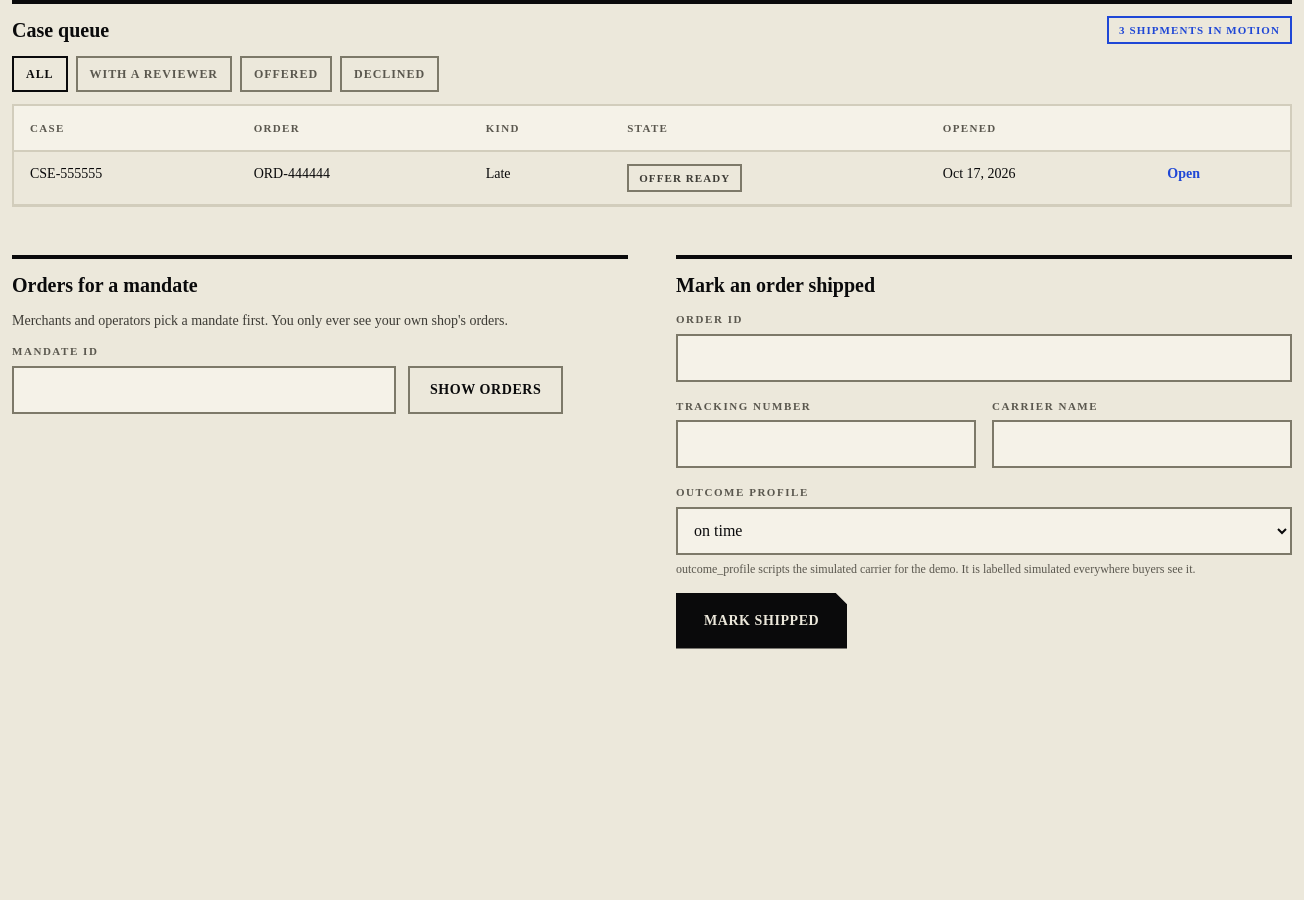
Test case: MerchantDesk › marks an order shipped and labels the carrier simulated
Type "44444444-4444-4444-8444-444444444444" into the field labelled "Order id" at (984, 358), box x1=676 y1=334 x2=1292 y2=382
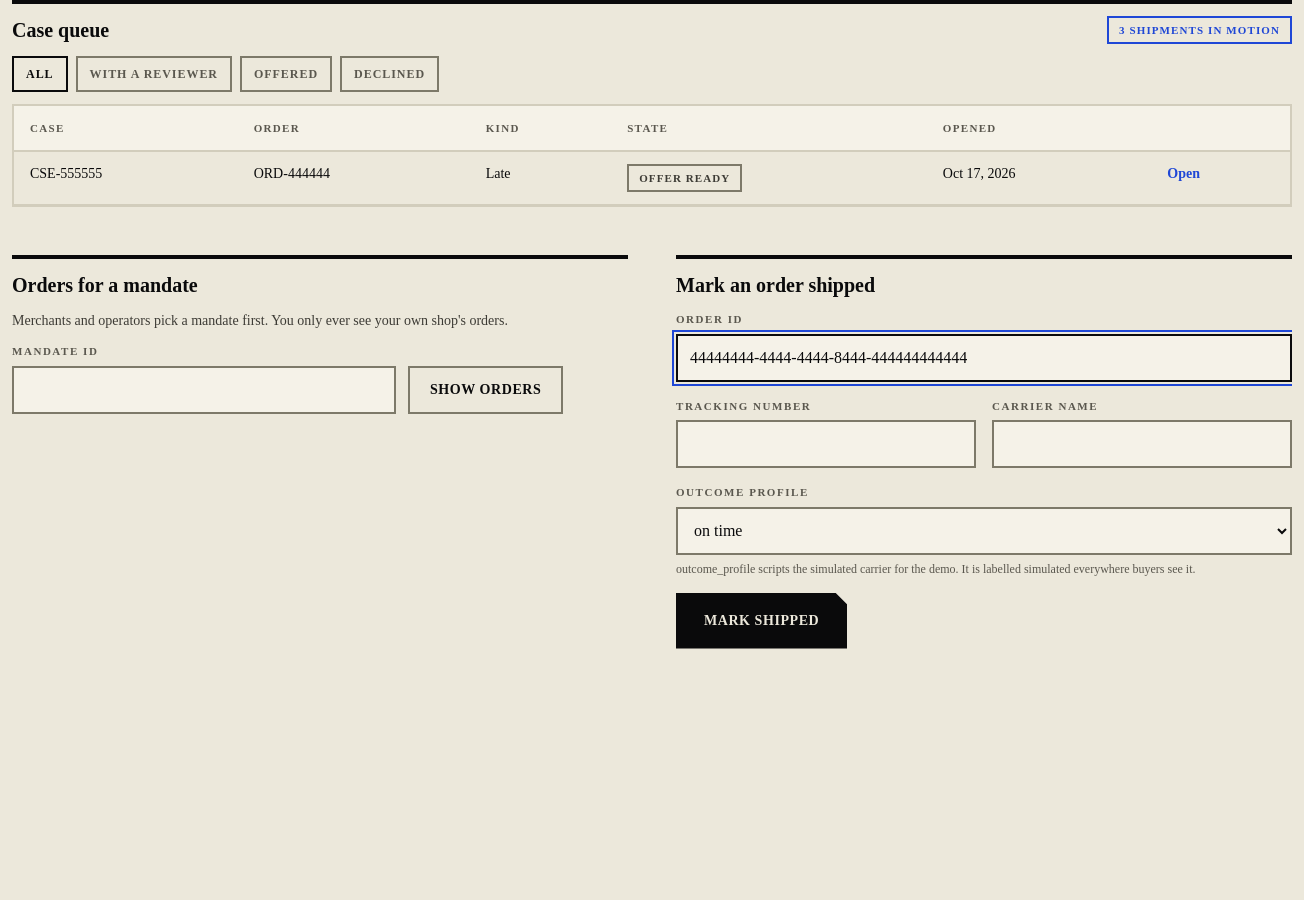
Type "TRK-9" into the field labelled "Tracking number" at (826, 444), box x1=676 y1=420 x2=976 y2=468
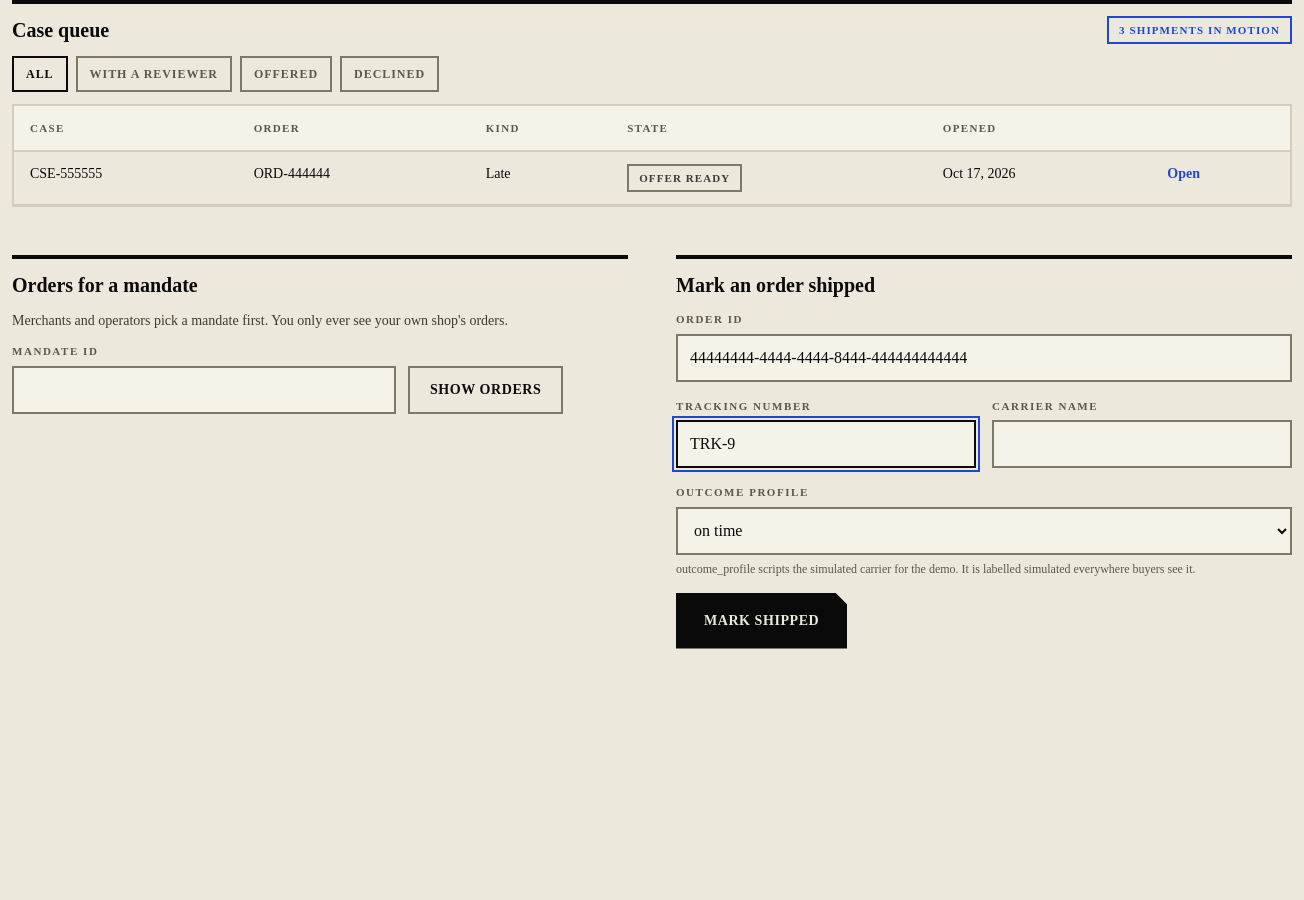
Type "SimPost" into the field labelled "Carrier name" at (1142, 444), box x1=992 y1=420 x2=1292 y2=468
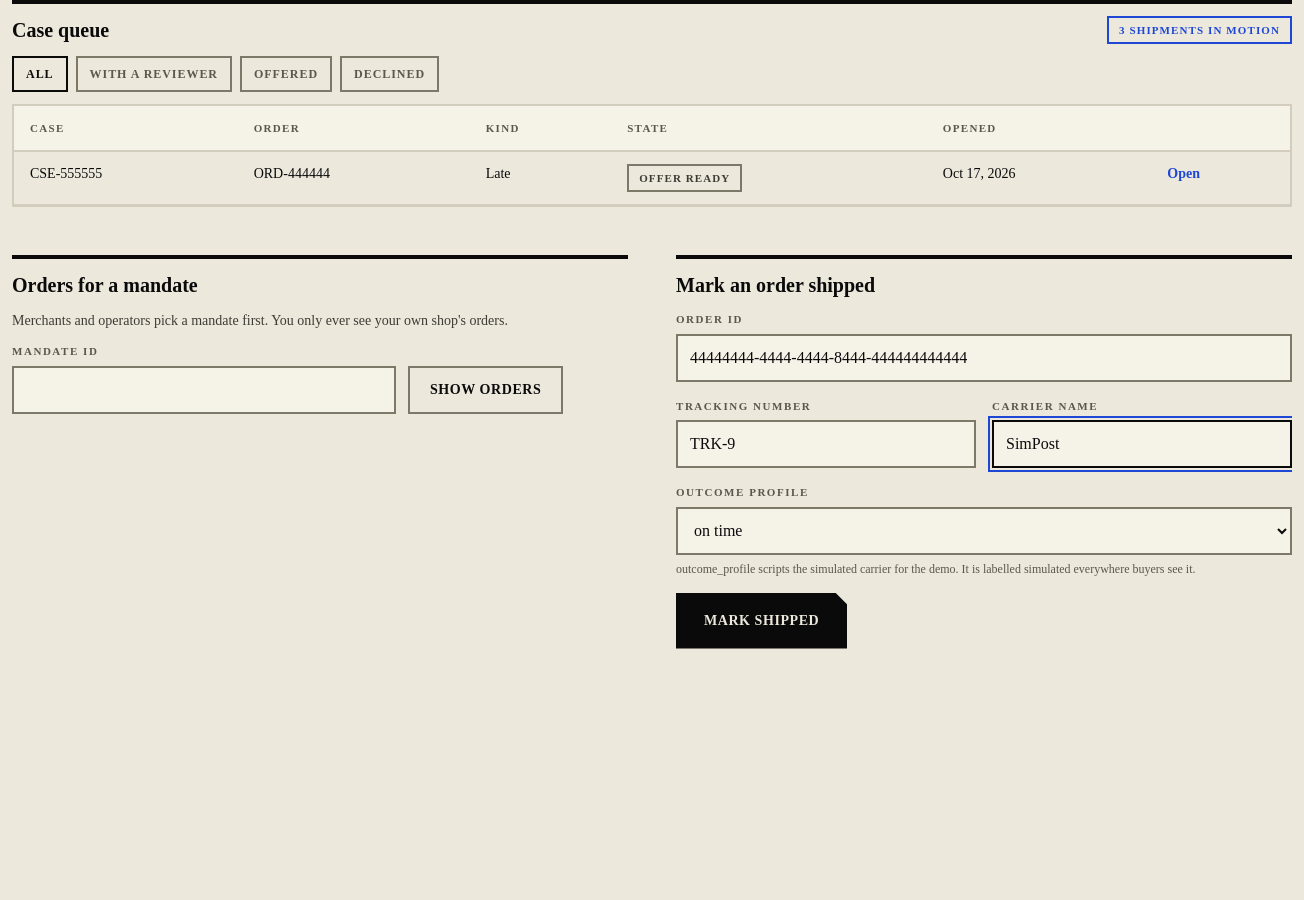
Select "late" in the dropdown labelled "Outcome profile" at (984, 530), box x1=676 y1=506 x2=1292 y2=554
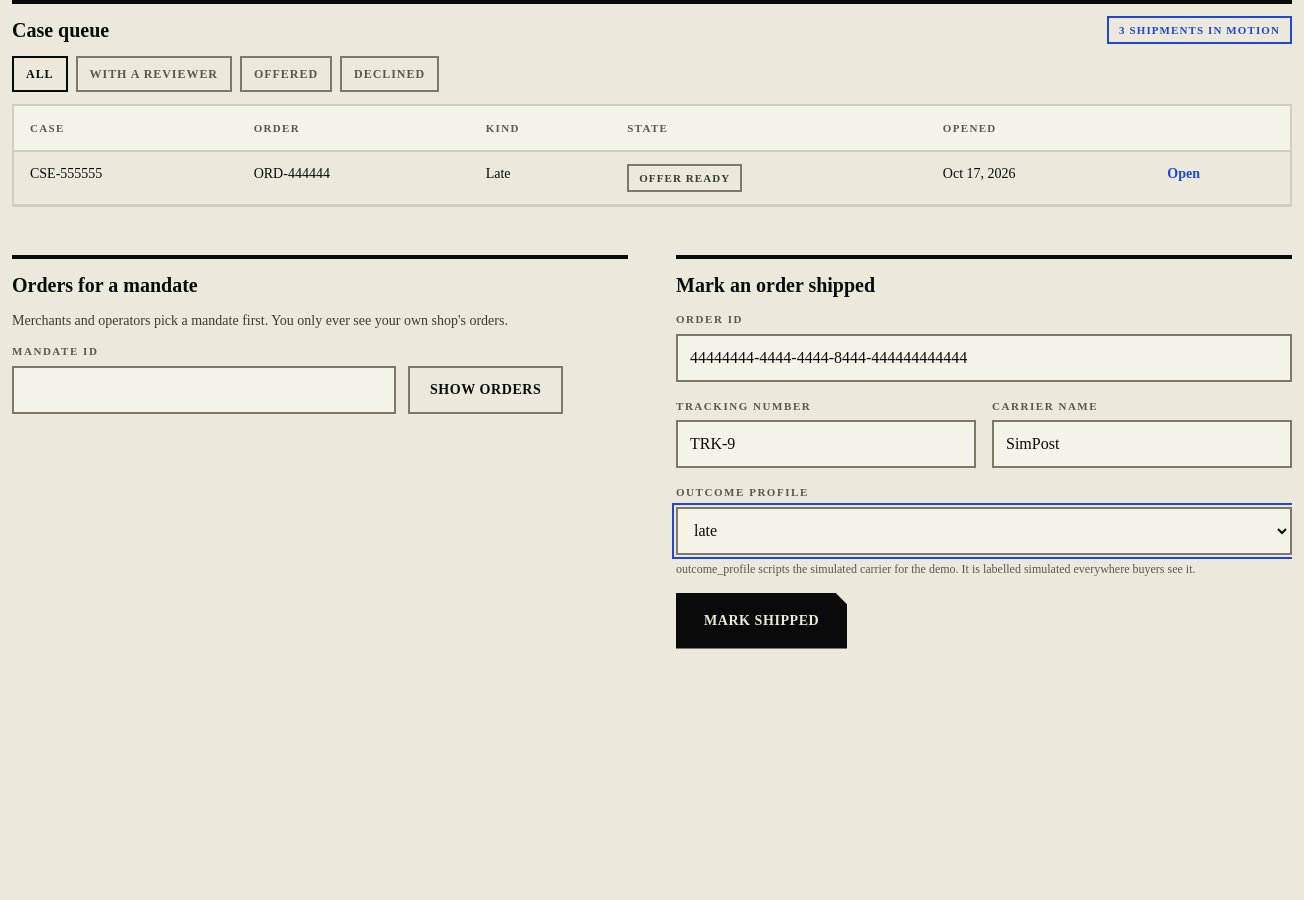
Click the button "Mark shipped" at (762, 620), box x1=676 y1=592 x2=847 y2=648
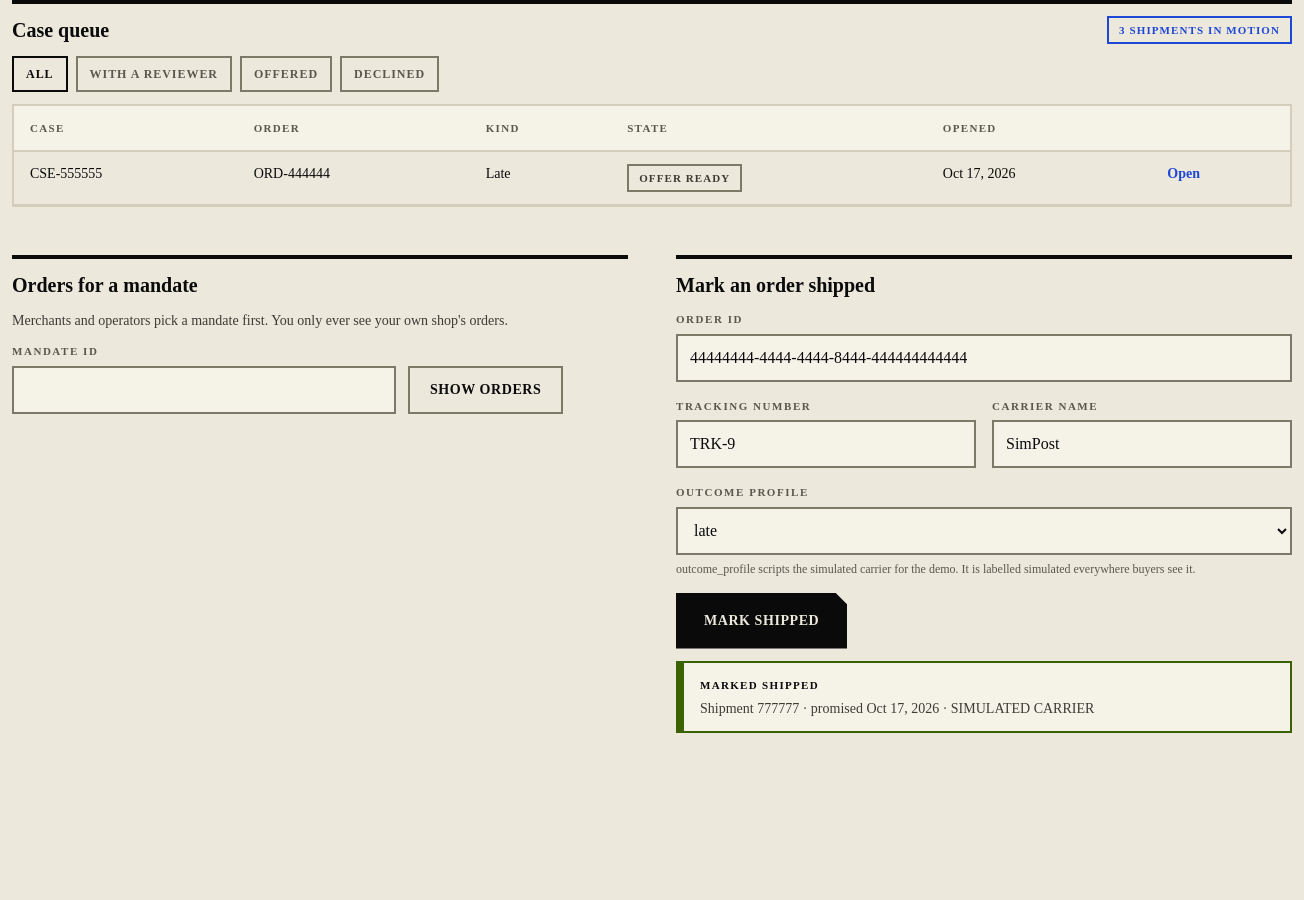
Check: the text "Marked shipped" is shown, box x1=700 y1=678 x2=819 y2=690
Check: the text "Shipment 777777 · promised Oct 17, 2026 · SIMULATED CARRIER" is shown, box x1=700 y1=700 x2=1094 y2=716
